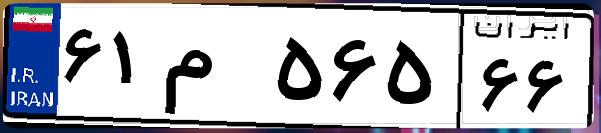1: (110, 28, 158, 98)
5: (270, 28, 330, 110), (385, 28, 445, 110)
6: (330, 28, 385, 110), (57, 26, 110, 100), (475, 38, 525, 113), (525, 38, 570, 115)
م: (158, 20, 270, 120)
